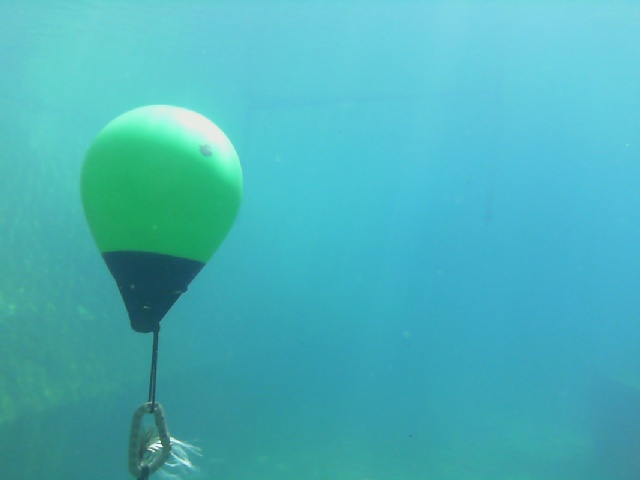buoy_green: (79, 101, 247, 334)
